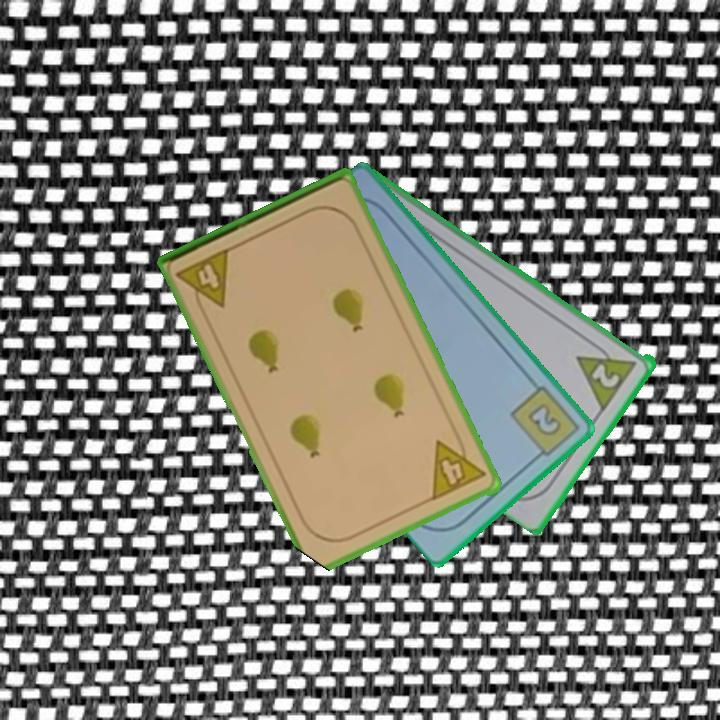2b: (506, 381, 582, 465)
2p: (588, 360, 624, 391)
4p: (427, 429, 489, 504), (172, 244, 234, 318)
